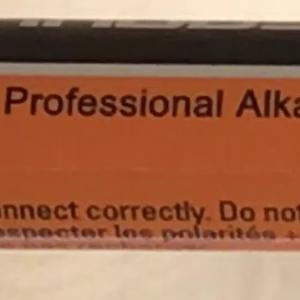ALK: (226, 80, 293, 128)
